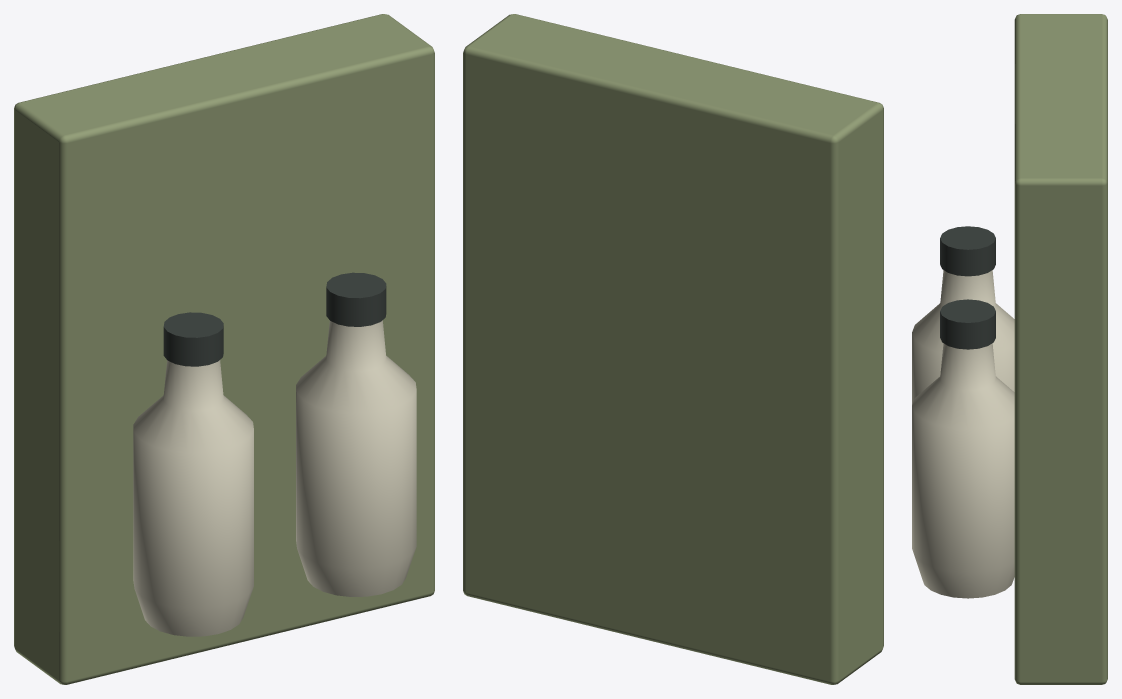
The model's file is field-medicine-and-recovery-eye-wash-station-bde08642__3065.glb.
3 renders of one model, left to right at view 1: azimuth 30°, elevation 25°; view 2: azimuth 150°, elevation 25°; view 3: azimuth 270°, elevation 25°, orthographic. The views are drawn at different scales.
Visible parts, largest first — view 1: eye-wash-station; view 2: eye-wash-station; view 3: eye-wash-station.
Boxes of the visible parts, x1,y1,x2,y2 form: eye-wash-station: (14, 14, 434, 684); eye-wash-station: (463, 14, 883, 684); eye-wash-station: (912, 14, 1107, 684).
Size of the model in its own units: 0.3 by 0.42 by 0.147.
